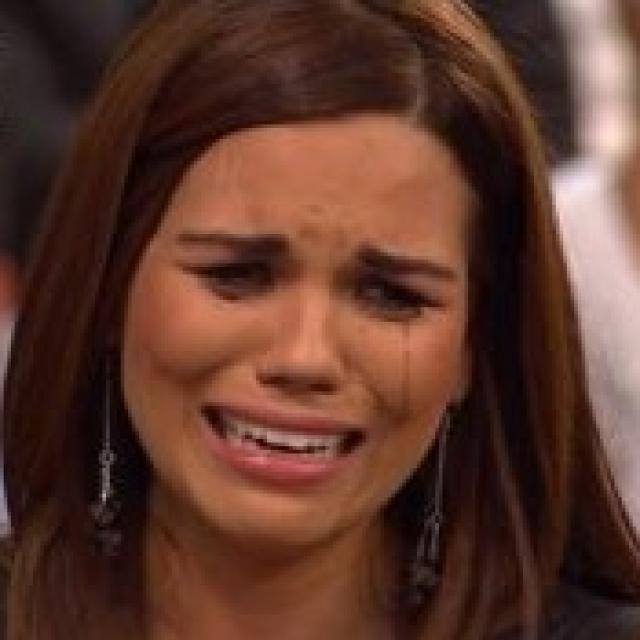Depress: (121, 121, 475, 559)
